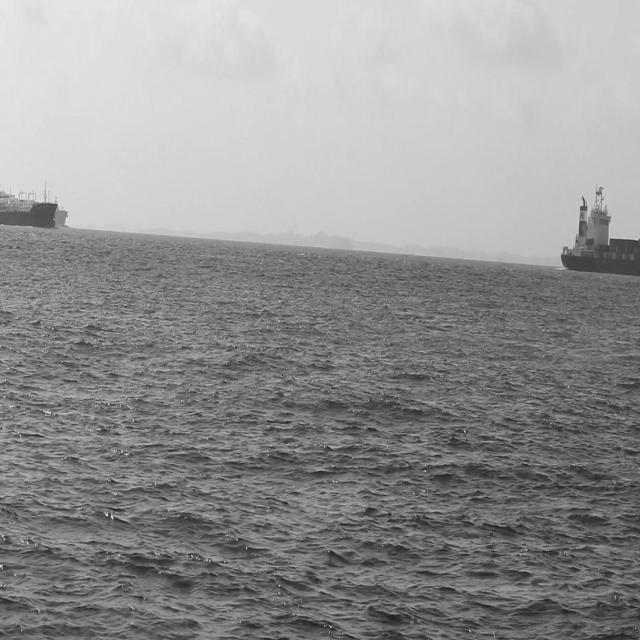ship: (549, 183, 640, 272), (1, 184, 52, 225), (52, 190, 66, 223)
